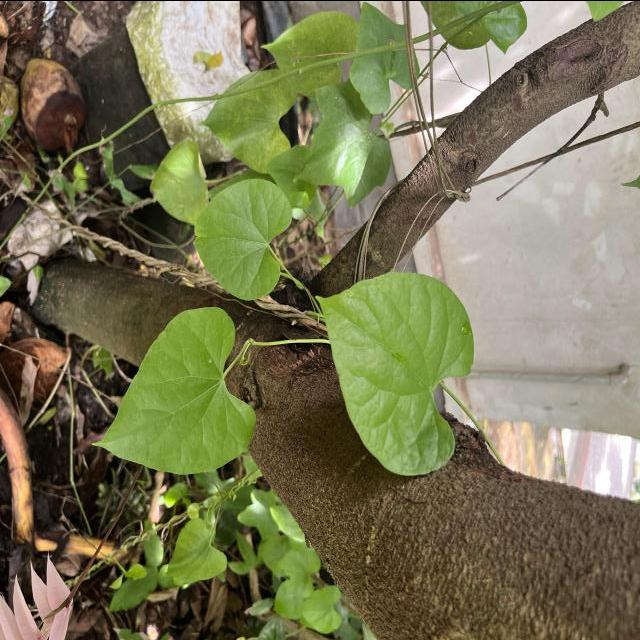Tinospora cordifolia: (310, 267, 478, 482), (88, 303, 259, 477), (192, 173, 296, 304)
